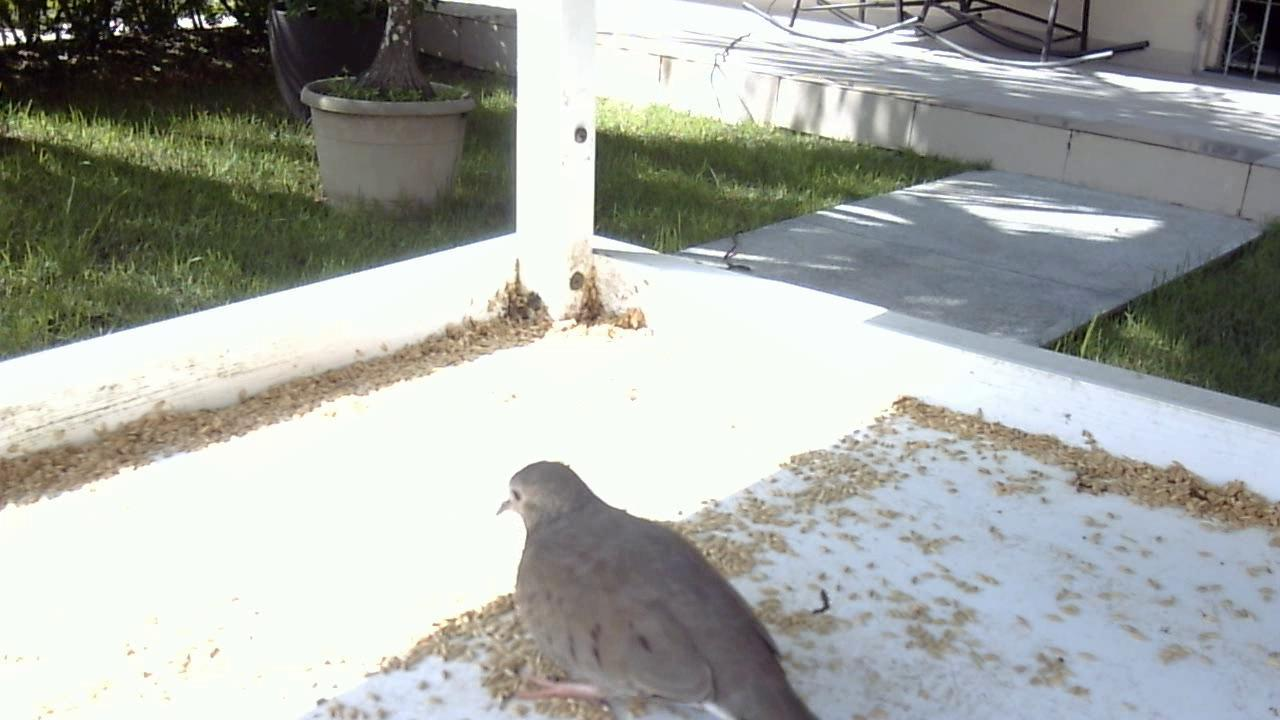rolinha: (480, 441, 824, 720)
